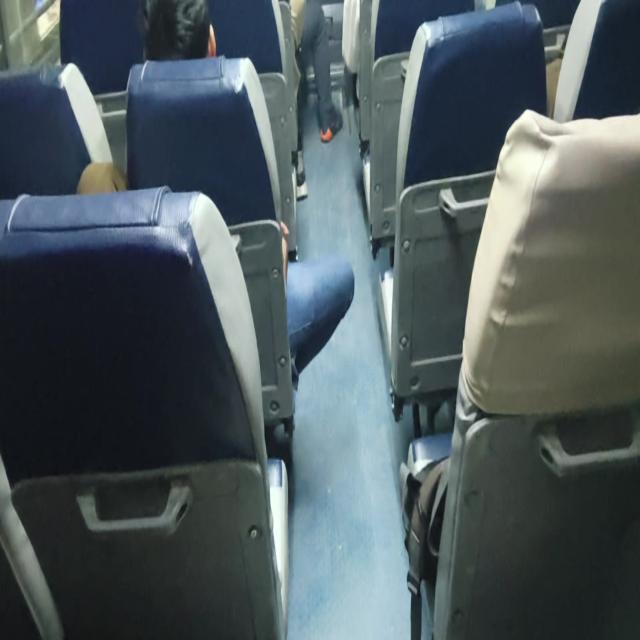person: (76, 1, 355, 397), (290, 0, 344, 144), (140, 0, 217, 61)
